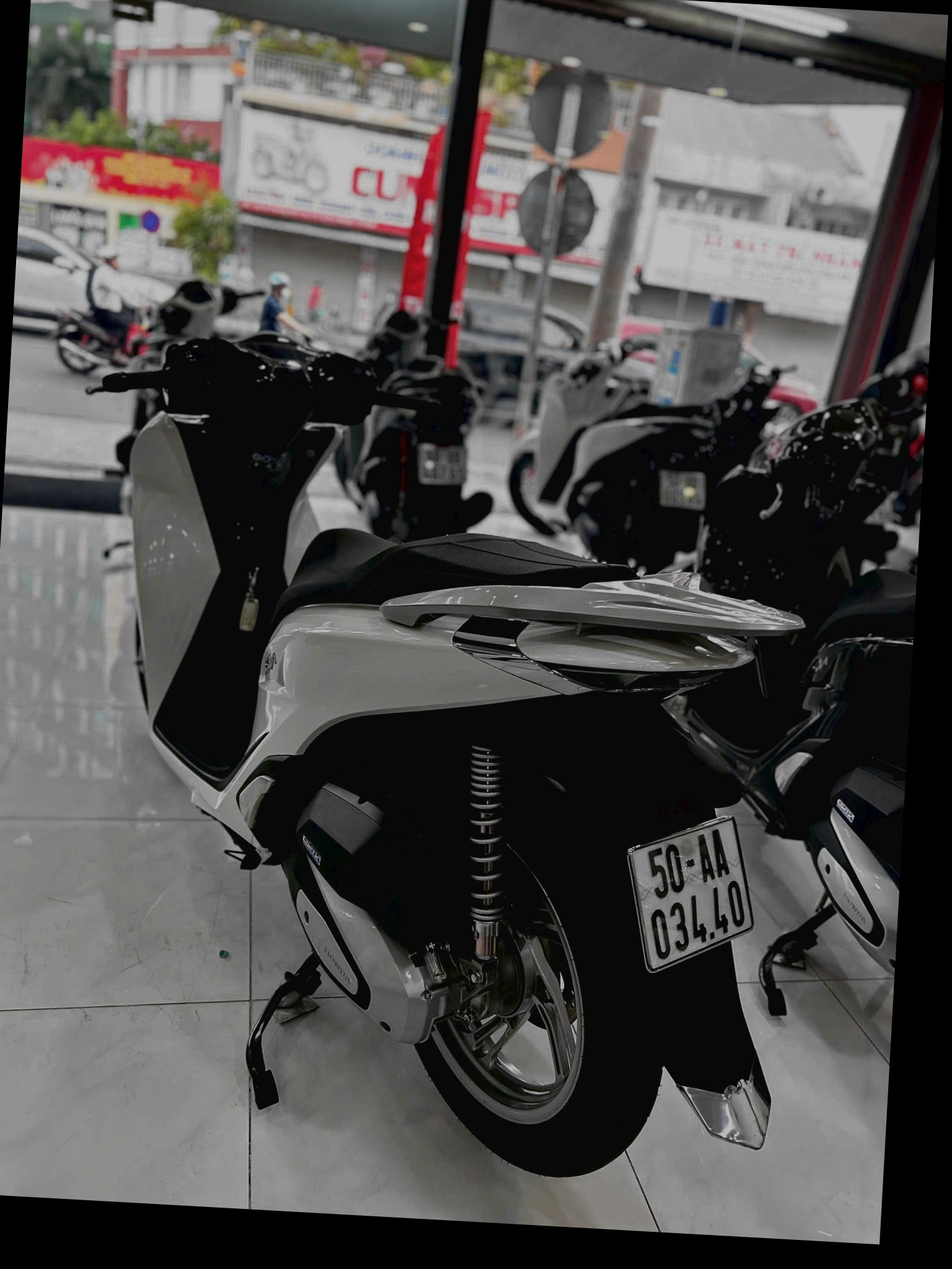Bien-so: (622, 813, 764, 984), (412, 439, 471, 486), (660, 467, 705, 508)
